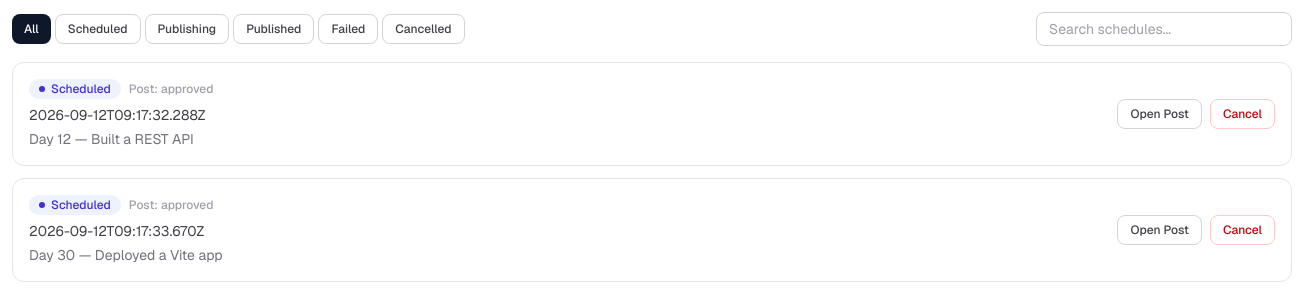
Test: ScheduleList › searches by opening text
The width and height of the screenshot is (1304, 299).
Type "Vite" into the search field labelled "Search schedules" at (1164, 29), box [1036,12,1292,46]
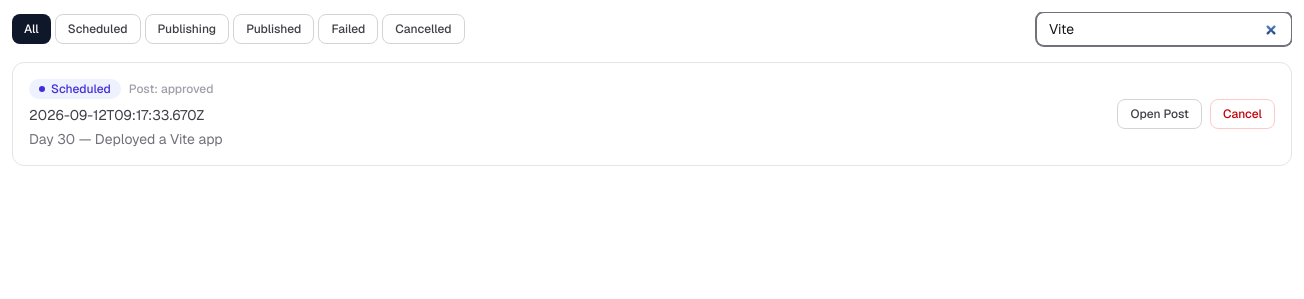
Expected: the text "Day 30 — Deployed a Vite app" is shown, [29,129,223,149]
Expected: the text "Day 12" is gone
